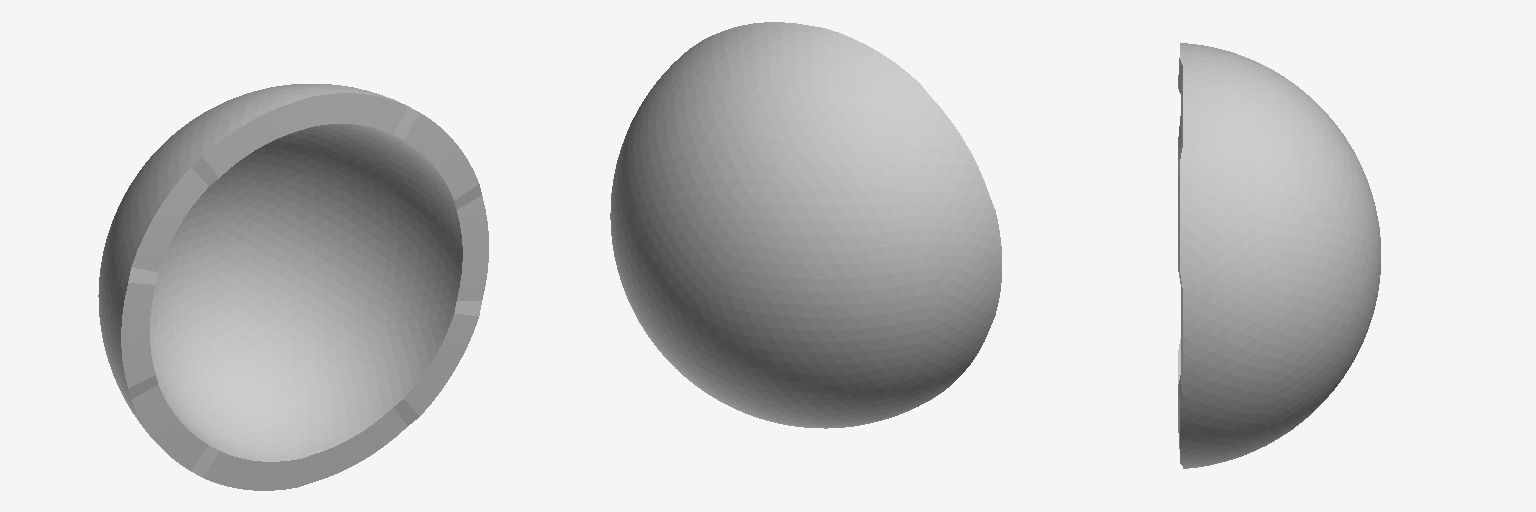
Rendered from bowl.obj.
3 views of the same model, side by side, from view 1: azimuth 30°, elevation 25°; view 2: azimuth 150°, elevation 25°; view 3: azimuth 270°, elevation 25° (orthographic).
Parts seen in each view (by area): view 1: bowlx; view 2: bowlx; view 3: bowlx.
Part boxes in pixels (bbox=[...]): bowlx: bbox=[98, 84, 488, 490]; bowlx: bbox=[610, 22, 1001, 428]; bowlx: bbox=[1178, 43, 1380, 468].
Bounding box in the file's own units: 1.99 × 2 × 0.95.